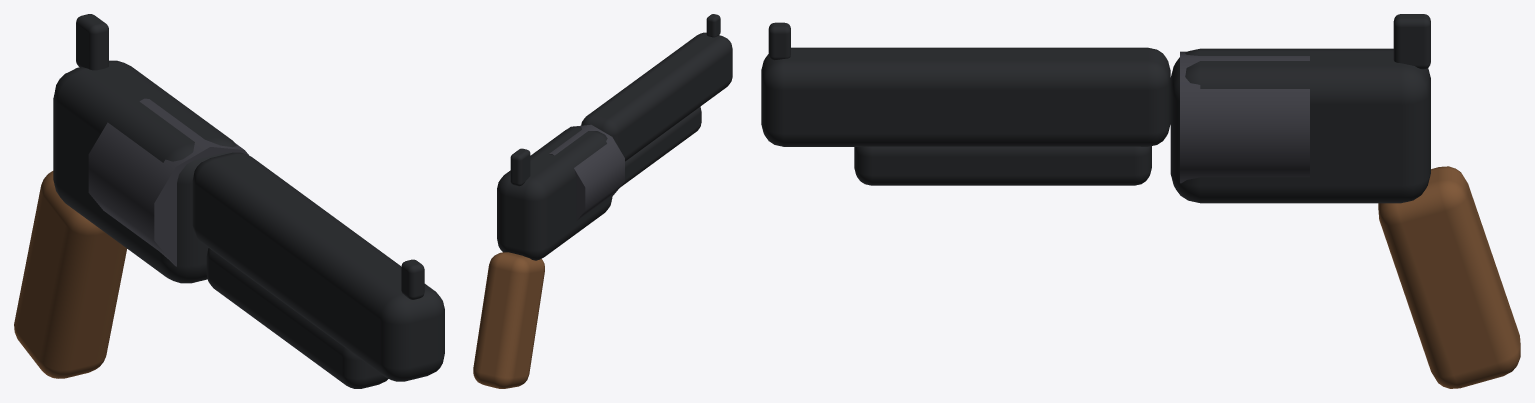
The model's file is hammerhead.glb.
3 renders of one model, left to right at view 1: azimuth 30°, elevation 25°; view 2: azimuth 150°, elevation 25°; view 3: azimuth 270°, elevation 25°, orthographic. The views are drawn at different scales.
Parts seen in each view (by area): view 1: Hammerhead; view 2: Hammerhead; view 3: Hammerhead.
Part boxes in pixels (x1,y1,x2,y2): Hammerhead: [14, 14, 444, 388]; Hammerhead: [473, 14, 732, 388]; Hammerhead: [761, 14, 1520, 388].
Size of the model in its own units: 0.0685 by 0.2163 by 0.4082.
